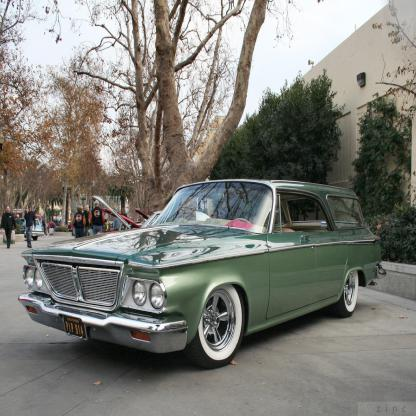Car: (1, 184, 388, 368)
